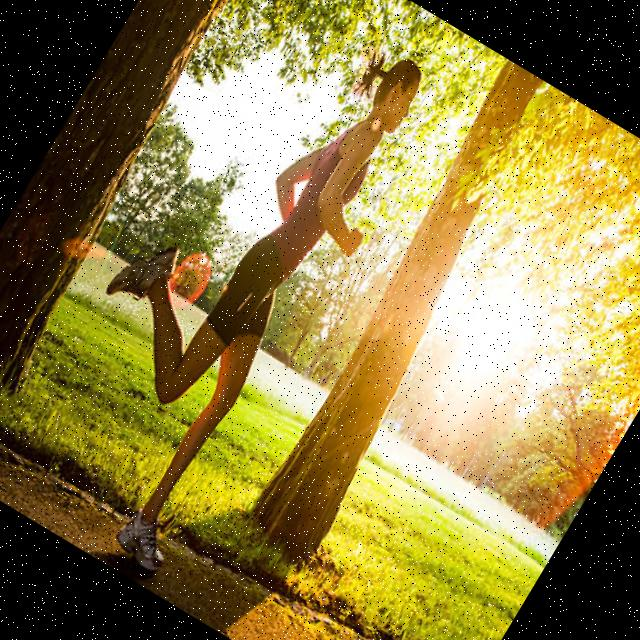Person: (0, 0, 454, 580)
